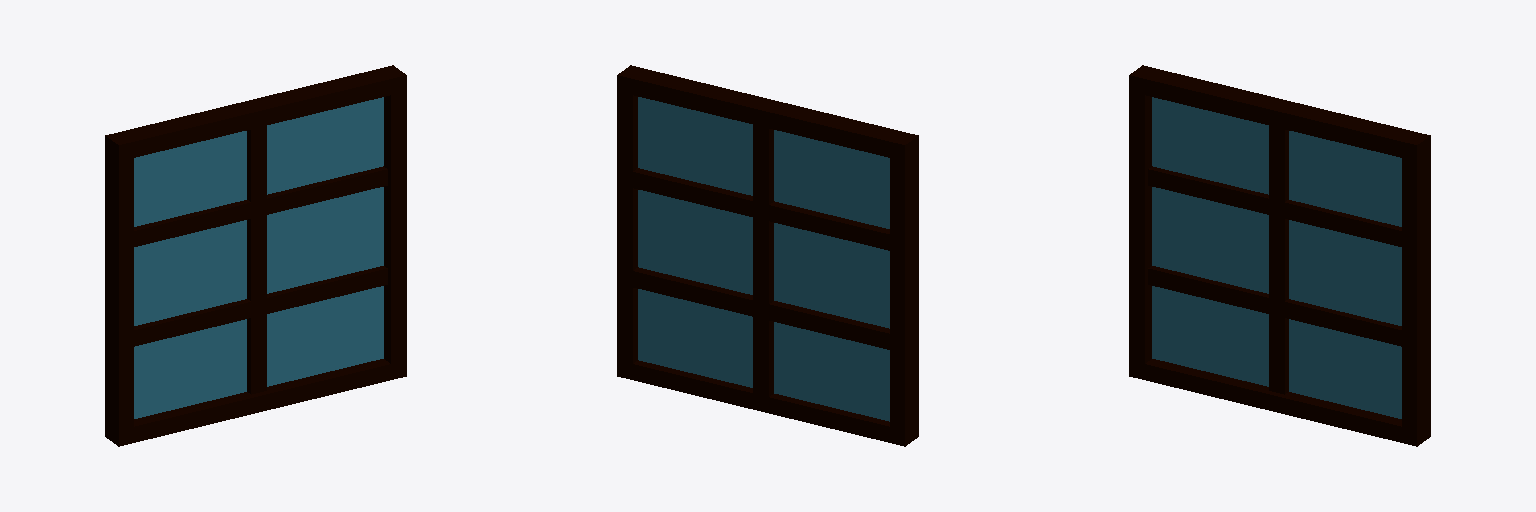
Rendered from Window04.obj.
The picture shows the model from 3 angles: view 1: azimuth 30°, elevation 25°; view 2: azimuth 150°, elevation 25°; view 3: azimuth 330°, elevation 25°; orthographic projection.
Visible parts, largest first — view 1: Window04; view 2: Window04; view 3: Window04.
Part boxes in pixels (x1,y1,x2,y2): Window04: (105, 65, 406, 446); Window04: (617, 65, 918, 446); Window04: (1129, 65, 1430, 446).
Bounding box in the file's own units: 37 × 37 × 3.